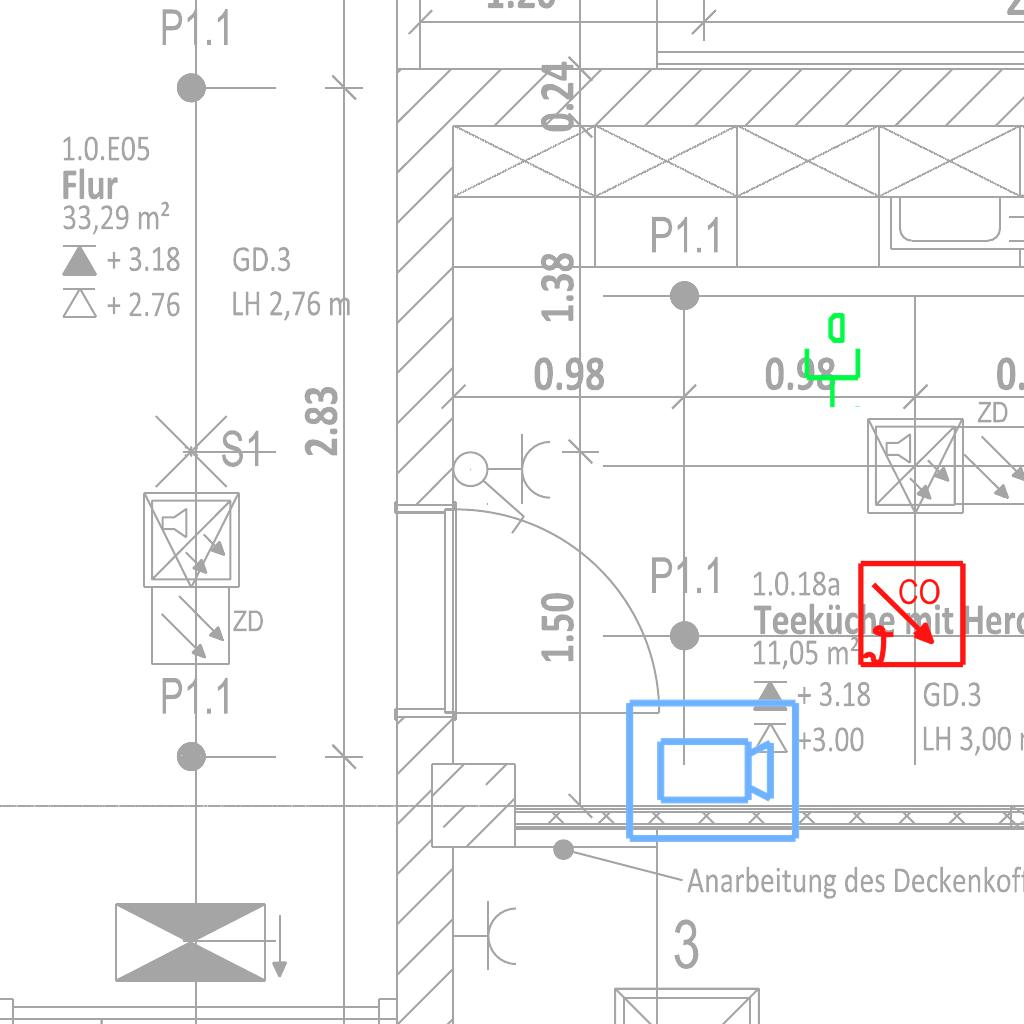Datenanschluss_einfach: (796, 310, 865, 410)
KFO_Kamera_mit_Festobjektiv: (621, 695, 803, 849)
ROA_Rauchmelder_optisch_mit_Signalgeber_(Sockelsirene): (856, 559, 969, 672)
